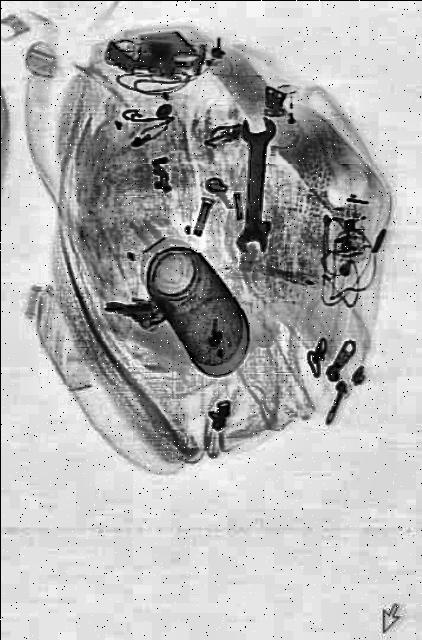Wrench: (234, 116, 274, 256)
